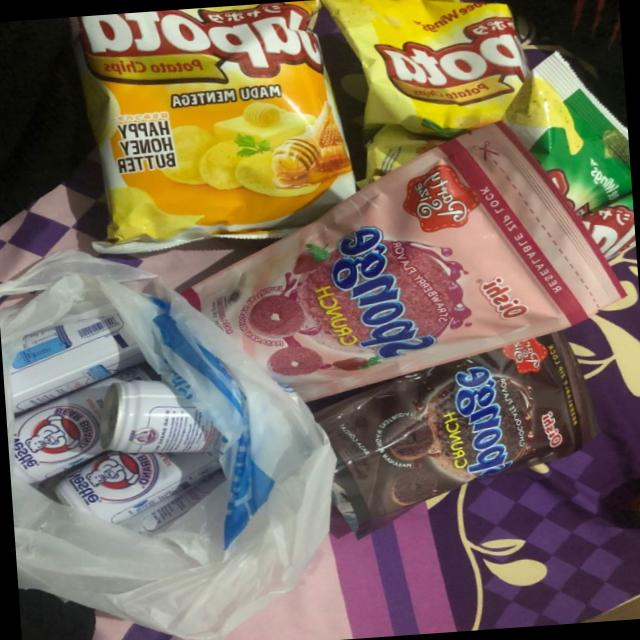KemasanPlastik: (154, 116, 612, 436), (288, 329, 611, 556), (71, 0, 356, 252)
